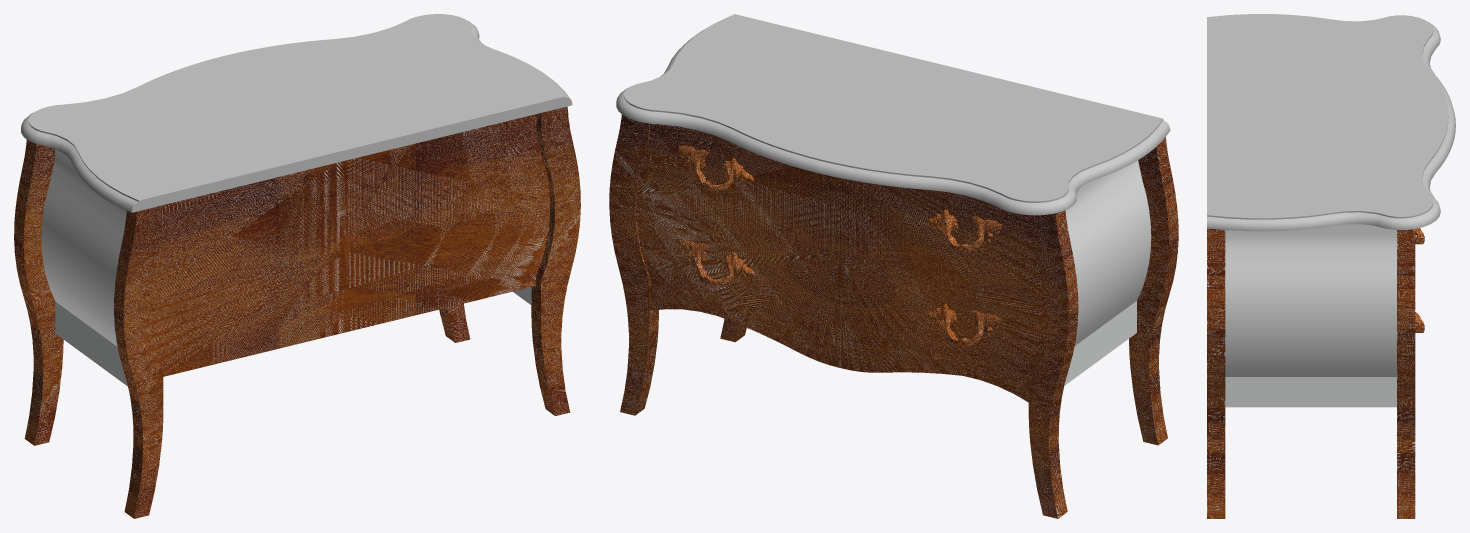
3 views of the same model, side by side, from view 1: azimuth 30°, elevation 25°; view 2: azimuth 150°, elevation 25°; view 3: azimuth 270°, elevation 25° (orthographic). The views are drawn at different scales.
Parts seen in each view (by area): view 1: mesh24_mesh24-geometry, mesh11_mesh11-geometry, mesh12_mesh12-geometry, mesh25_mesh25-geometry, mesh7_mesh7-geometry, mesh6_mesh6-geometry, mesh19_mesh19-geometry, mesh5_mesh5-geometry, mesh18_mesh18-geometry; view 2: mesh12_mesh12-geometry, mesh25_mesh25-geometry, mesh15_mesh15-geometry, mesh2_mesh2-geometry, mesh3_mesh3-geometry, mesh16_mesh16-geometry, mesh7_mesh7-geometry, mesh5_mesh5-geometry, mesh6_mesh6-geometry, mesh18_mesh18-geometry, mesh14_mesh14-geometry, mesh1_mesh1-geometry (+2 smaller); view 3: mesh20_mesh20-geometry, mesh25_mesh25-geometry, mesh12_mesh12-geometry, mesh19_mesh19-geometry, mesh18_mesh18-geometry, mesh14_mesh14-geometry.
Part boxes in pixels (x1,y1,x2,y2): mesh24_mesh24-geometry: (347,114,550,331); mesh11_mesh11-geometry: (149,160,347,376); mesh12_mesh12-geometry: (21,55,352,212); mesh25_mesh25-geometry: (225,14,572,158); mesh7_mesh7-geometry: (41,149,127,386); mesh6_mesh6-geometry: (114,205,163,518); mesh19_mesh19-geometry: (531,106,580,415); mesh5_mesh5-geometry: (14,139,63,445); mesh18_mesh18-geometry: (439,303,470,342); mesh12_mesh12-geometry: (817,66,1170,215); mesh25_mesh25-geometry: (616,14,948,172); mesh15_mesh15-geometry: (636,201,840,367); mesh2_mesh2-geometry: (840,253,1042,375); mesh3_mesh3-geometry: (840,178,1042,300); mesh16_mesh16-geometry: (636,123,840,253); mesh7_mesh7-geometry: (1064,160,1151,385); mesh5_mesh5-geometry: (1028,210,1078,518); mesh6_mesh6-geometry: (1129,137,1178,445); mesh18_mesh18-geometry: (609,114,658,415); mesh14_mesh14-geometry: (678,145,754,285); mesh1_mesh1-geometry: (925,209,1002,346); mesh20_mesh20-geometry: (1225,224,1396,407); mesh25_mesh25-geometry: (1207,116,1455,231); mesh12_mesh12-geometry: (1207,14,1455,123); mesh19_mesh19-geometry: (1207,228,1225,518); mesh18_mesh18-geometry: (1397,229,1415,518); mesh14_mesh14-geometry: (1415,228,1424,332).
Bounding box in the file's own units: 0.7704 × 0.5107 × 0.3818.
